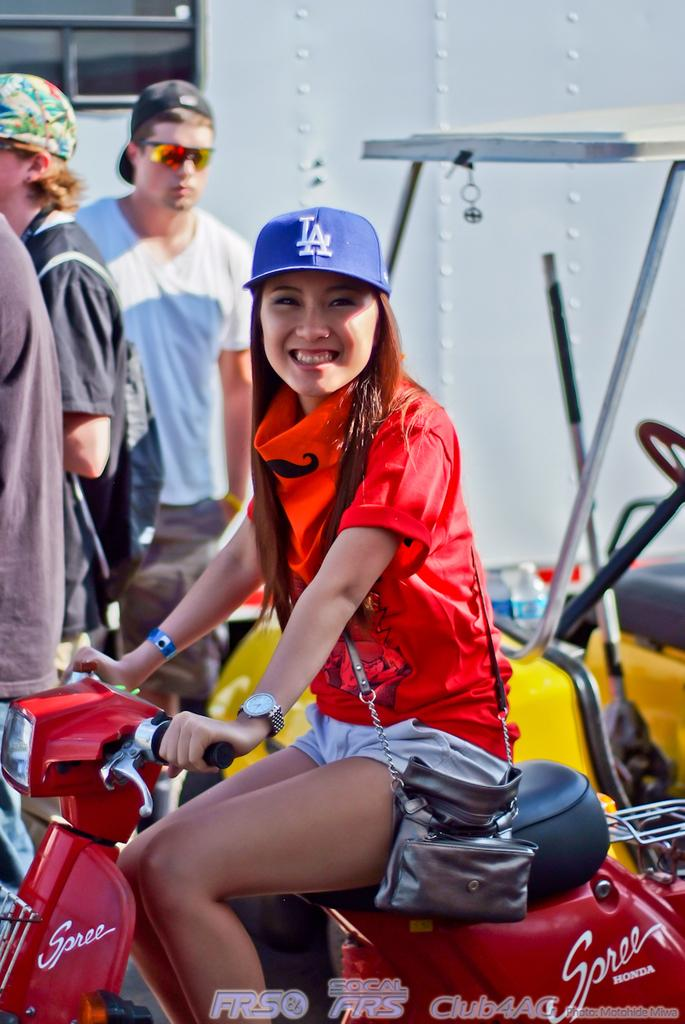Hat: (243, 206, 391, 294), (115, 78, 212, 186), (0, 66, 77, 156)
